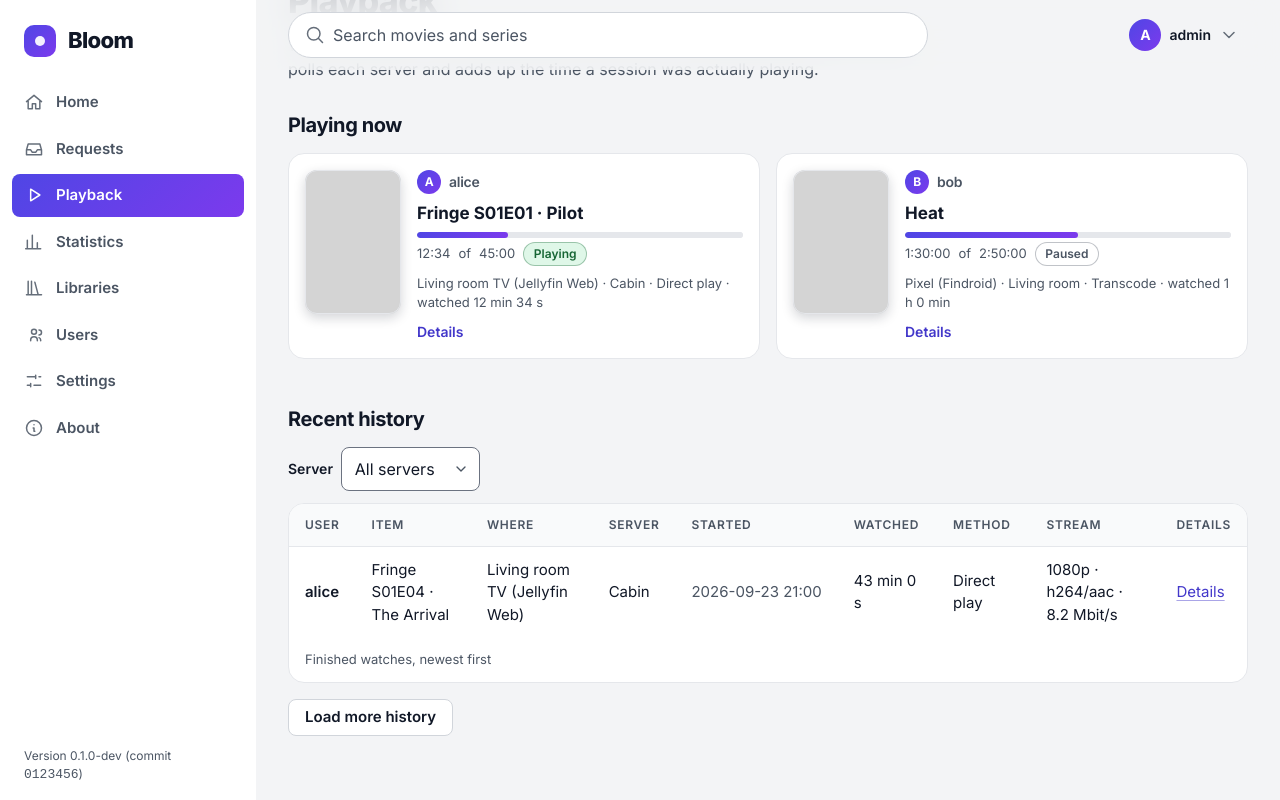
Test: loads the next page of history and reports a page that fails
The image size is (1280, 800).
(page scrolled)
Click the button "Load more history": (371, 717) [288, 699, 453, 736]
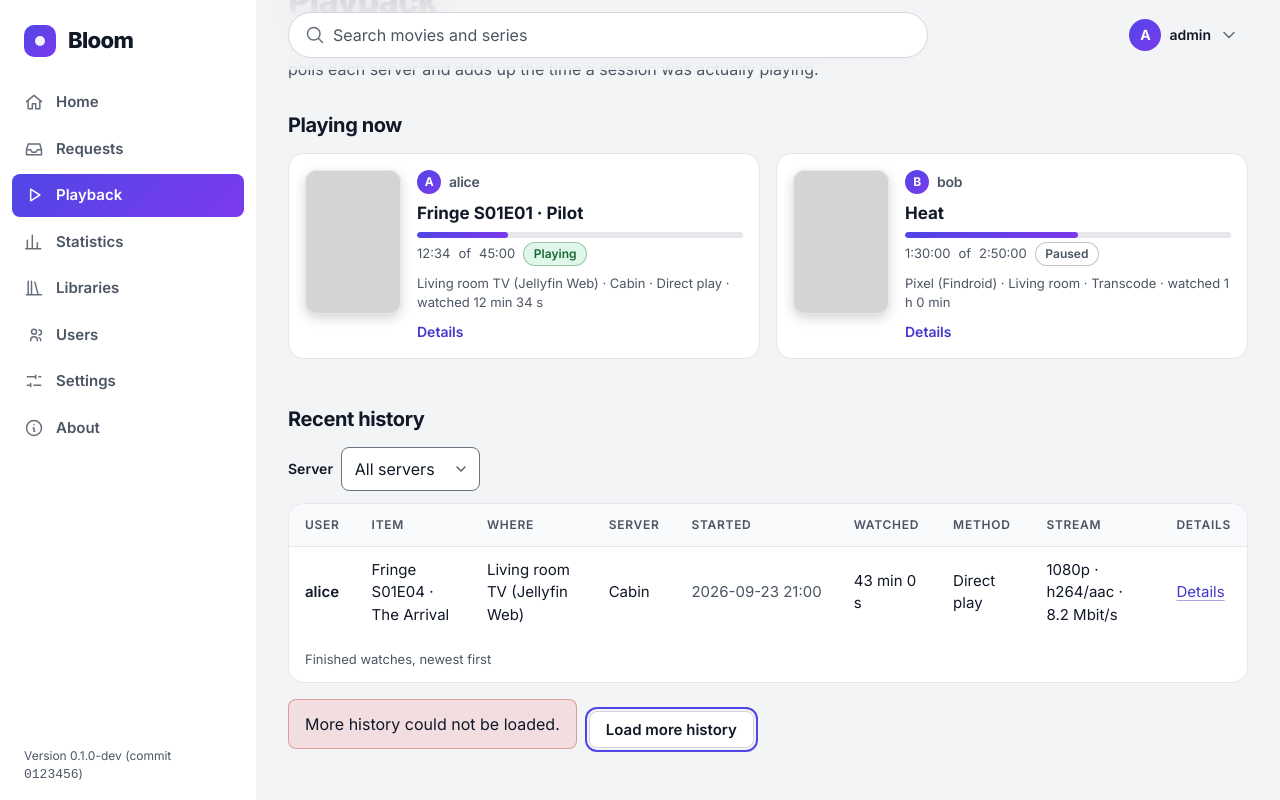
Now the message reads "More history could not be loaded.", box [305, 714, 560, 734]
Click the button "Load more history": (671, 730) [589, 711, 754, 748]
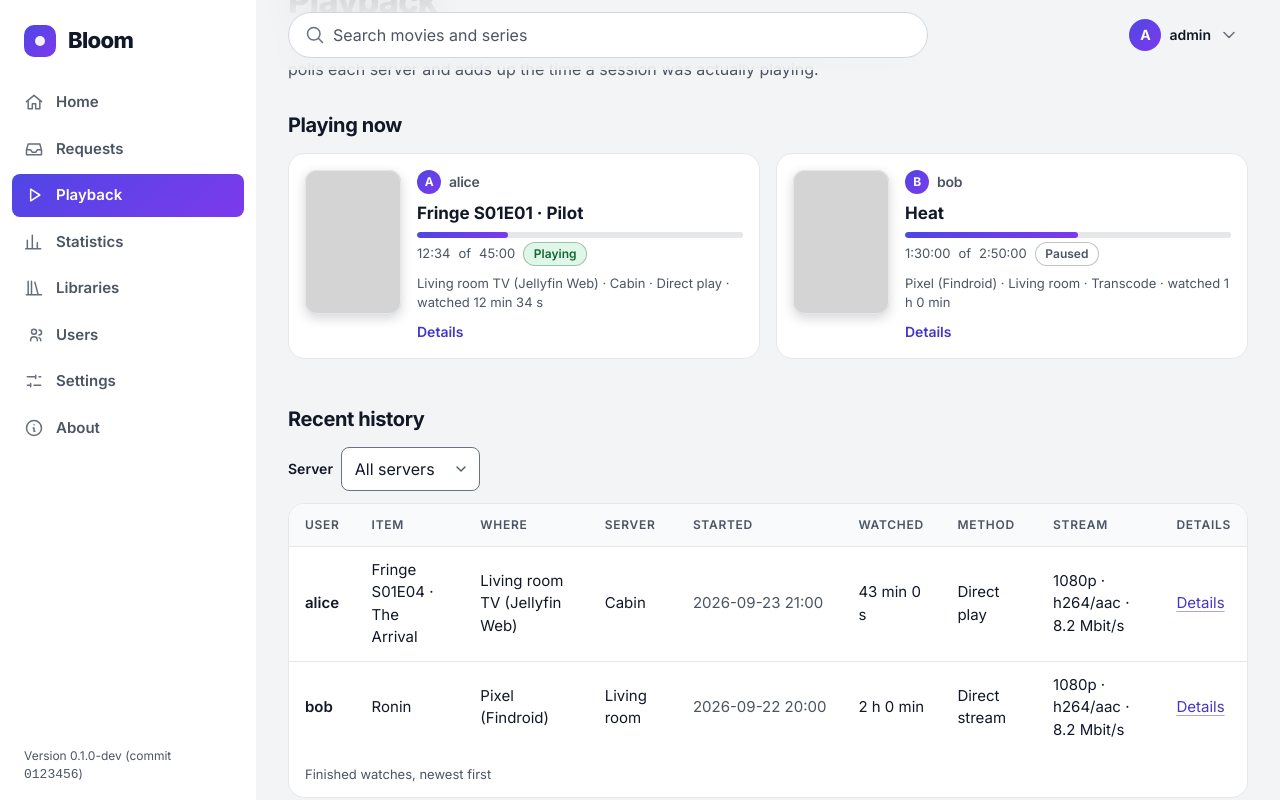
Now the row "bob " is shown, box [289, 661, 1247, 753]
Now the button "Load more history" is gone
